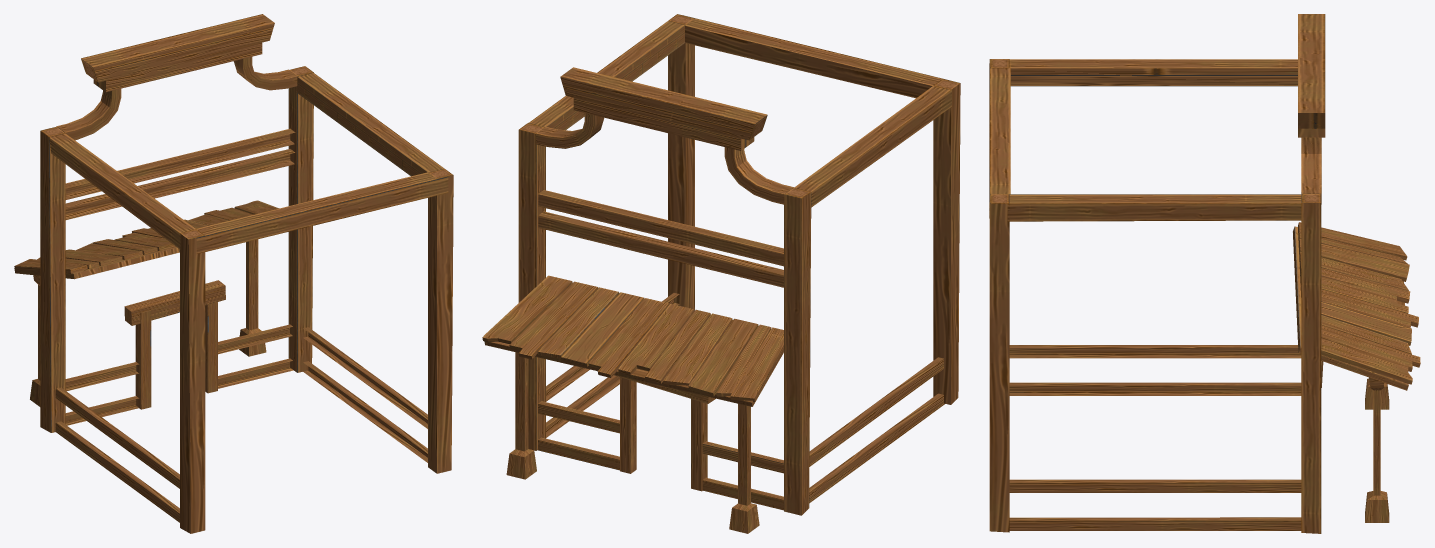
The model's file is Cube.149_wood_trim.fbx.
3 renders of one model, left to right at view 1: azimuth 30°, elevation 25°; view 2: azimuth 150°, elevation 25°; view 3: azimuth 270°, elevation 25°, orthographic. The views are drawn at different scales.
Parts seen in each view (by area): view 1: Cube.149_wood_trim; view 2: Cube.149_wood_trim; view 3: Cube.149_wood_trim.
Part boxes in pixels (<box>): Cube.149_wood_trim: <box>14,14,453,533</box>; Cube.149_wood_trim: <box>482,14,960,533</box>; Cube.149_wood_trim: <box>989,14,1420,533</box>.
Bounding box in the file's own units: 6.29 × 8.12 × 7.94.
1 material, 1 textured.
